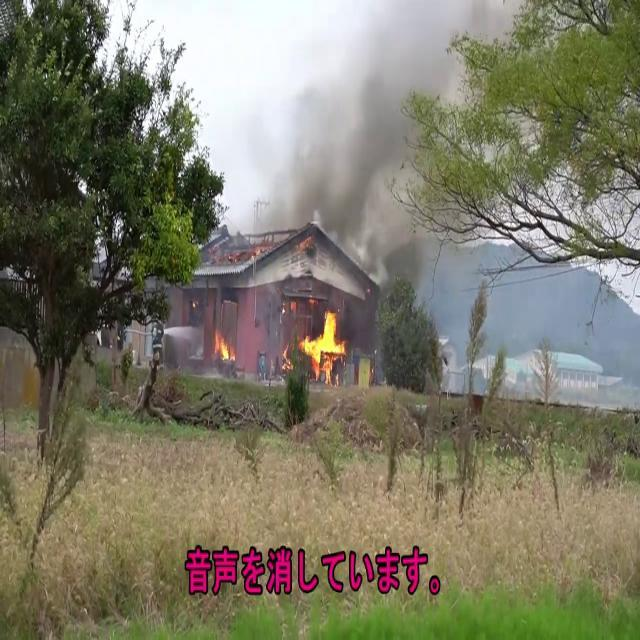Fire: (299, 309, 348, 381), (212, 322, 234, 369)
Smoke: (275, 8, 526, 290)
